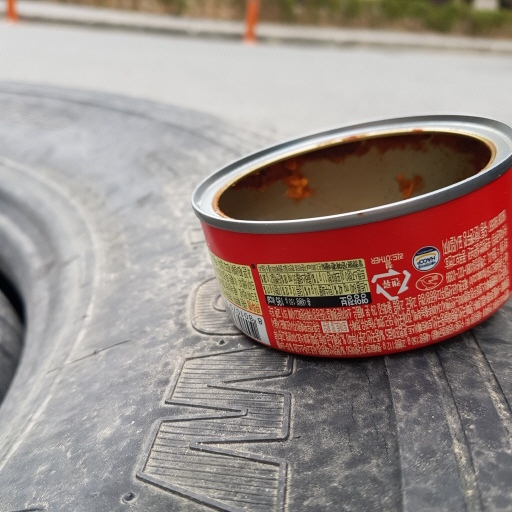Metal_1: (193, 110, 512, 354)
